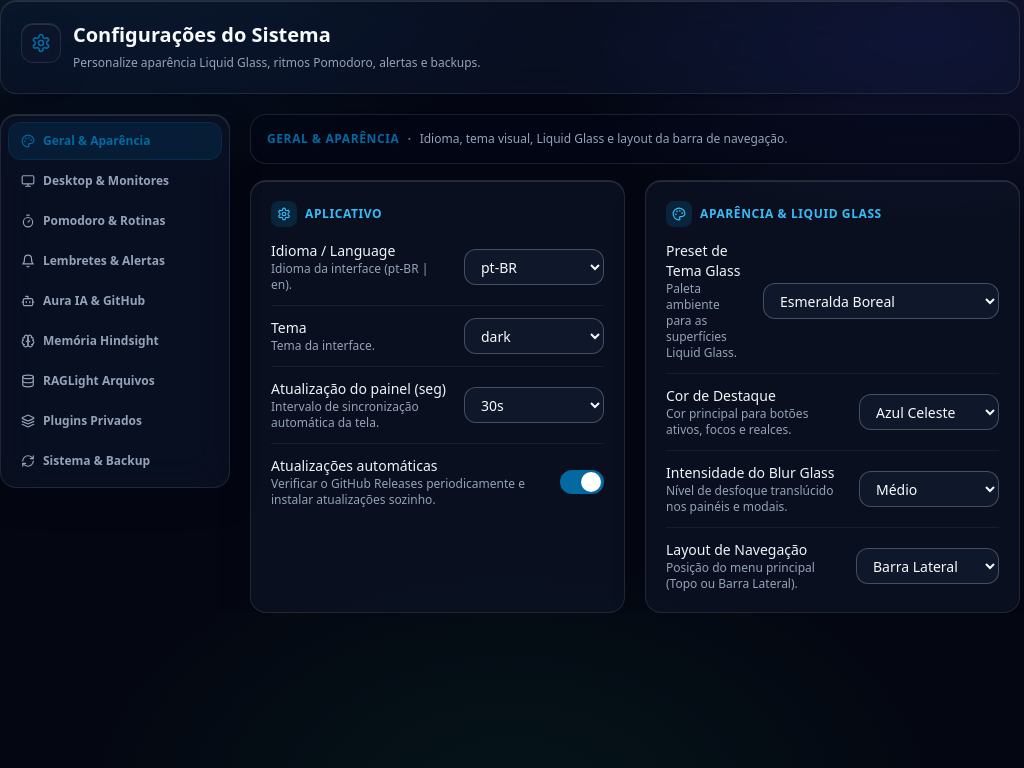
Test: SettingsPage › surfaces error even when app.locale rejects
Select "en" in the dropdown named "Idioma / Language" at (534,266), box [464,248,604,284]
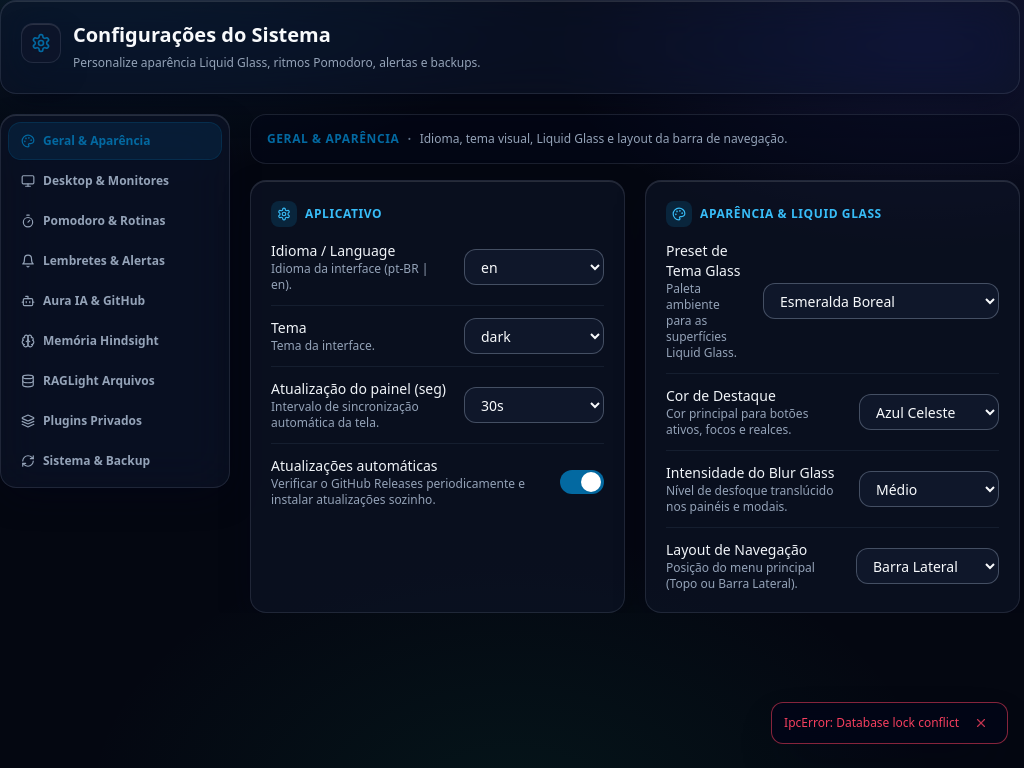
Expected: the text "IpcError: Database lock conflict" is shown, [784,715,959,731]
